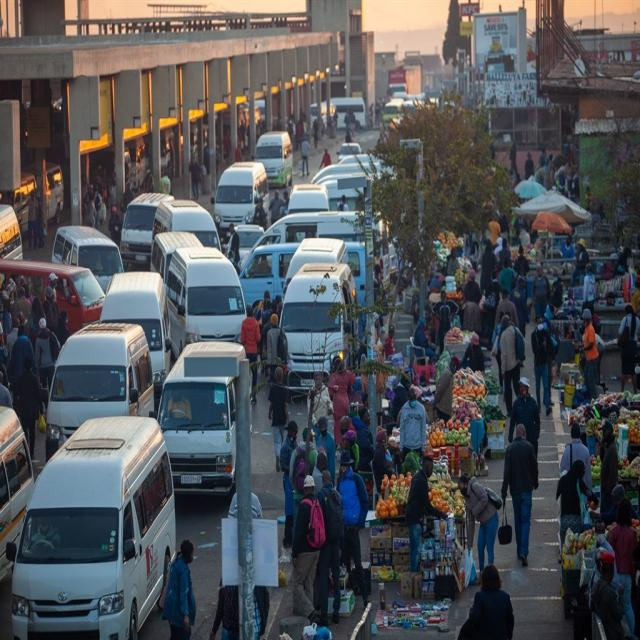MiniBus taxi: (4, 463, 146, 636), (155, 376, 242, 502), (44, 341, 135, 450), (278, 276, 350, 394)
Pedestrians: (493, 422, 544, 568)
